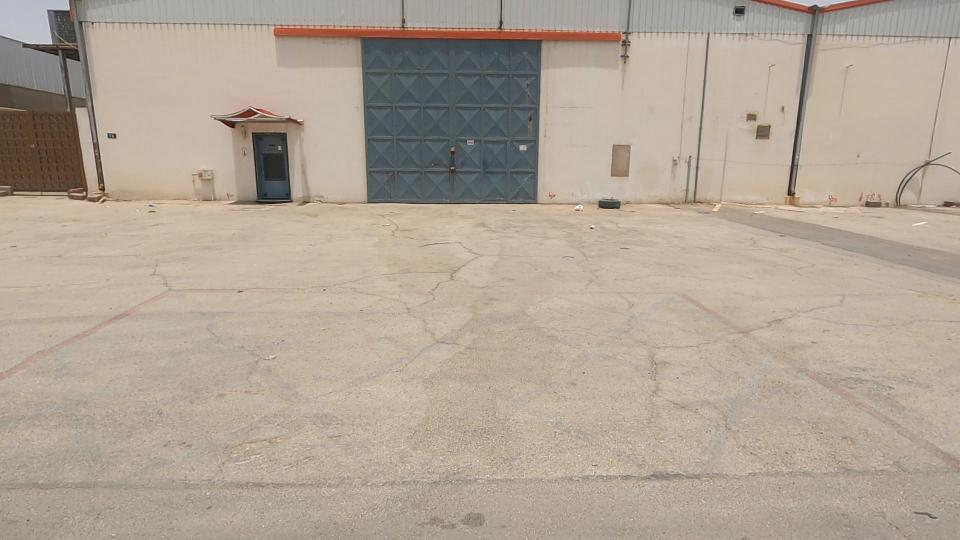GARBAGE: (526, 174, 665, 238), (570, 210, 630, 249)
